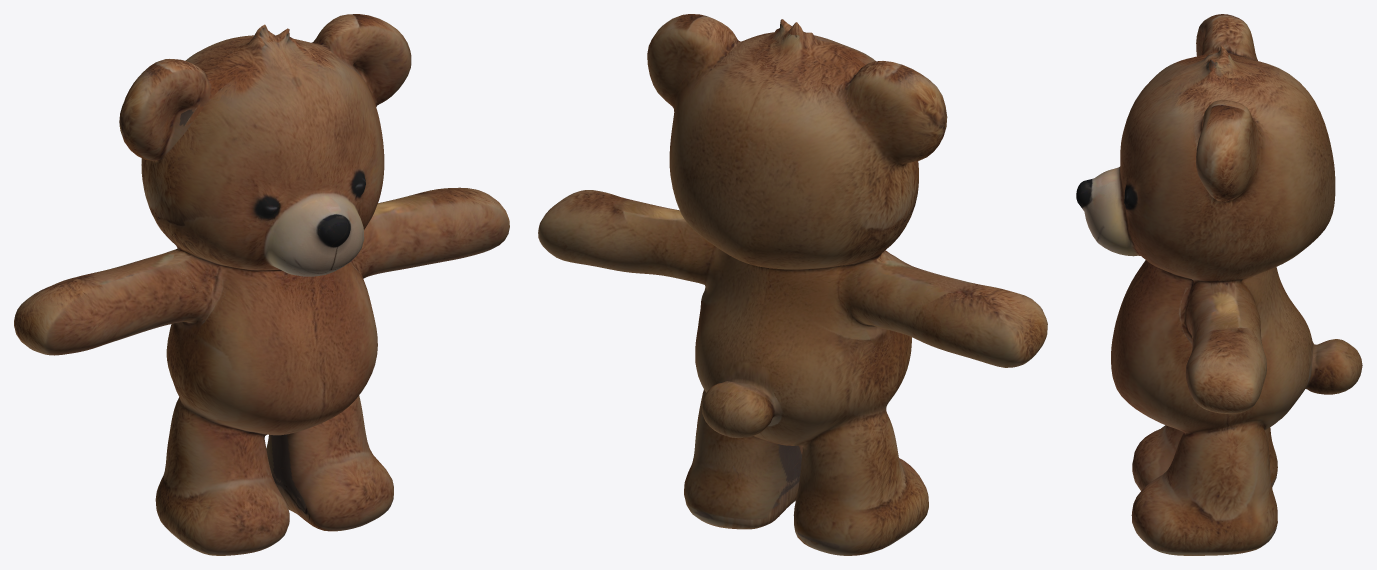
Rendered from teddy_bear.glb.
3 views of the same model, side by side, from view 1: azimuth 30°, elevation 25°; view 2: azimuth 150°, elevation 25°; view 3: azimuth 270°, elevation 25° (orthographic). The views are drawn at different scales.
Visible parts, largest first — view 1: Mesh_0_Material.001_0; view 2: Mesh_0_Material.001_0; view 3: Mesh_0_Material.001_0.
Part boxes in pixels (x1=…): Mesh_0_Material.001_0: x1=14, y1=14, x2=509, y2=555; Mesh_0_Material.001_0: x1=538, y1=14, x2=1047, y2=555; Mesh_0_Material.001_0: x1=1076, y1=14, x2=1362, y2=555.
Size of the model in its own units: 1.99 by 1.96 by 1.08.
1 material, 1 textured.
